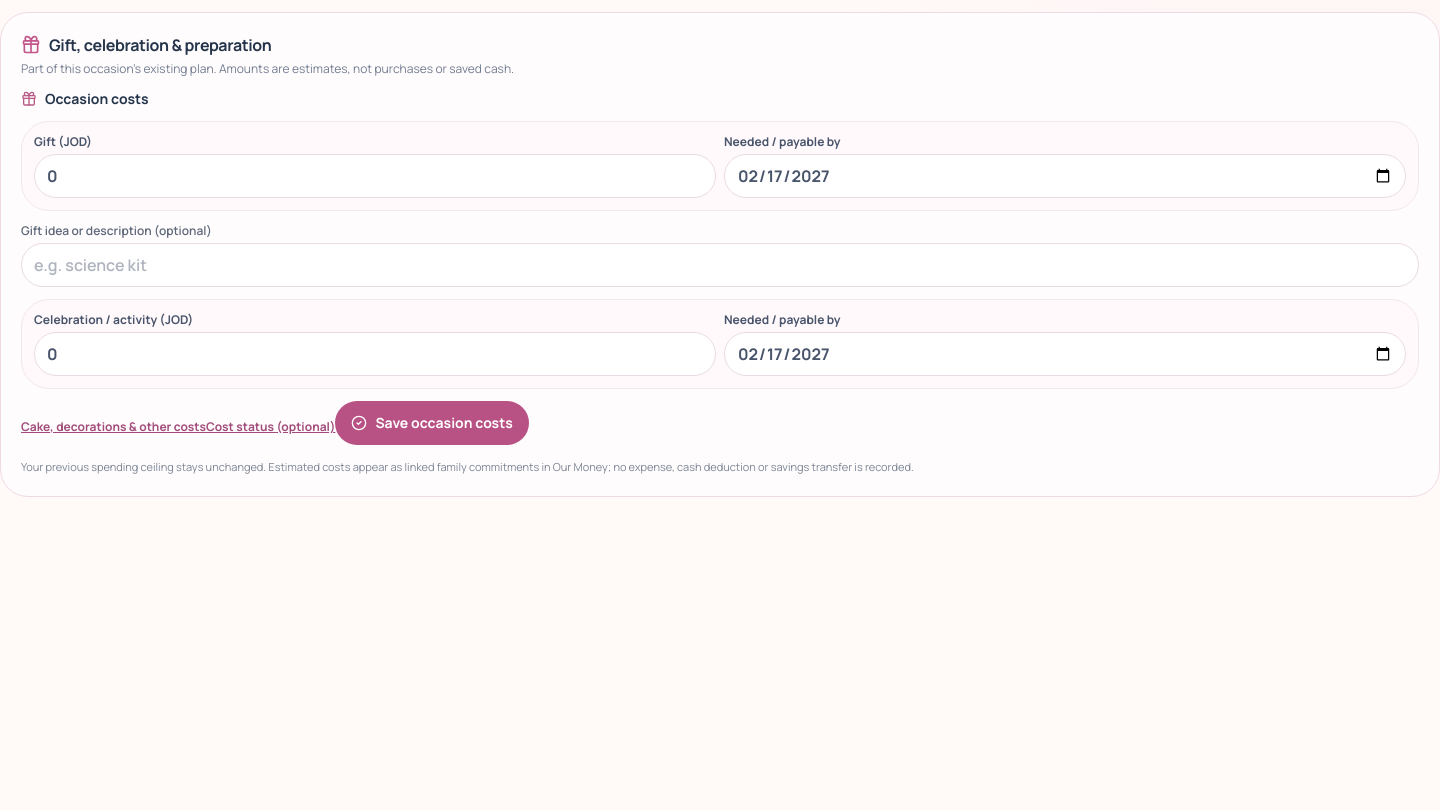
it: calendar-integrated occasion preparation › preserves the real budget and plan if browser persistence fails
Replace the text in the number field labelled "Gift (JOD)" with "300" at (375, 176), box [34,154,716,198]
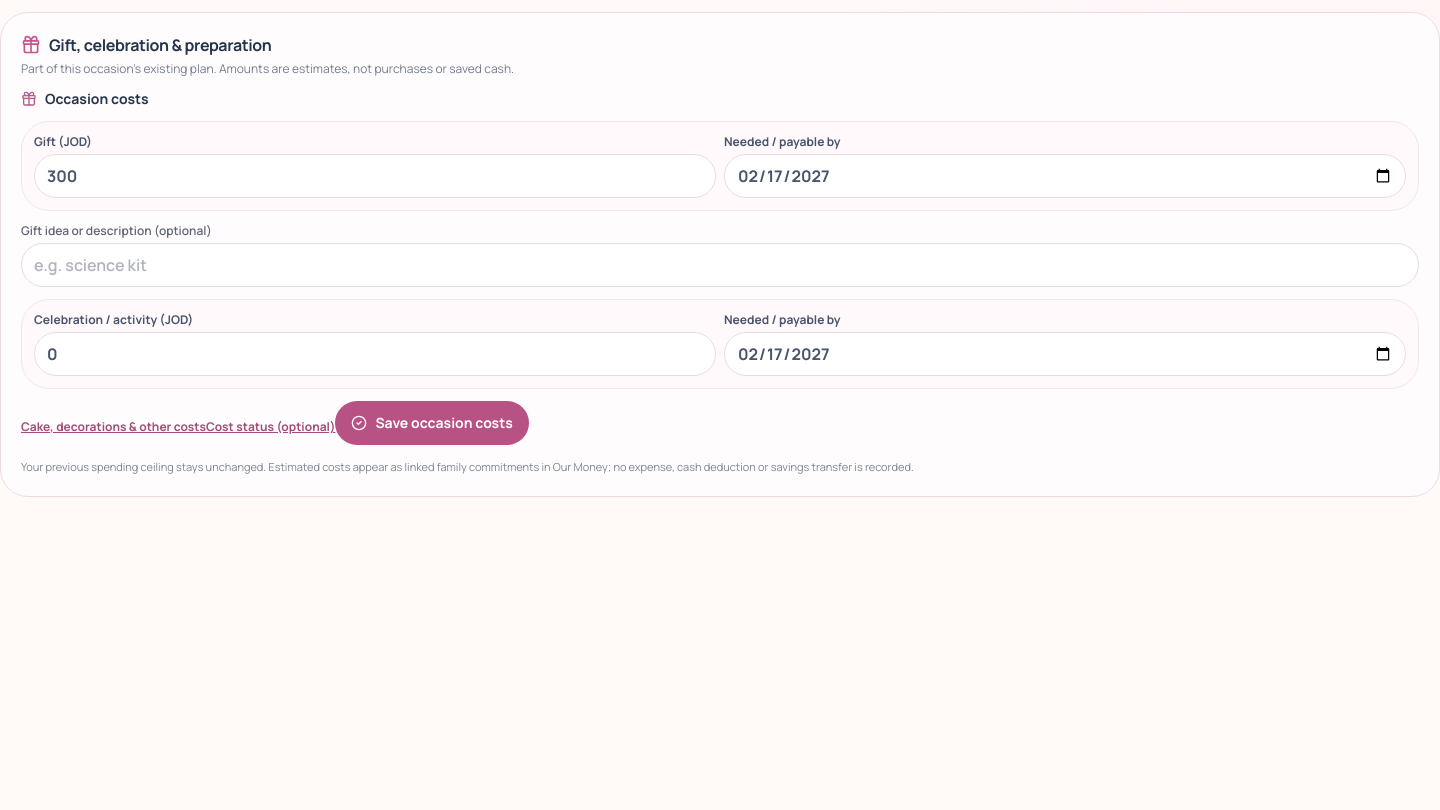
Click the button "Save occasion costs".
click(432, 423)  # box [335,401,529,445]
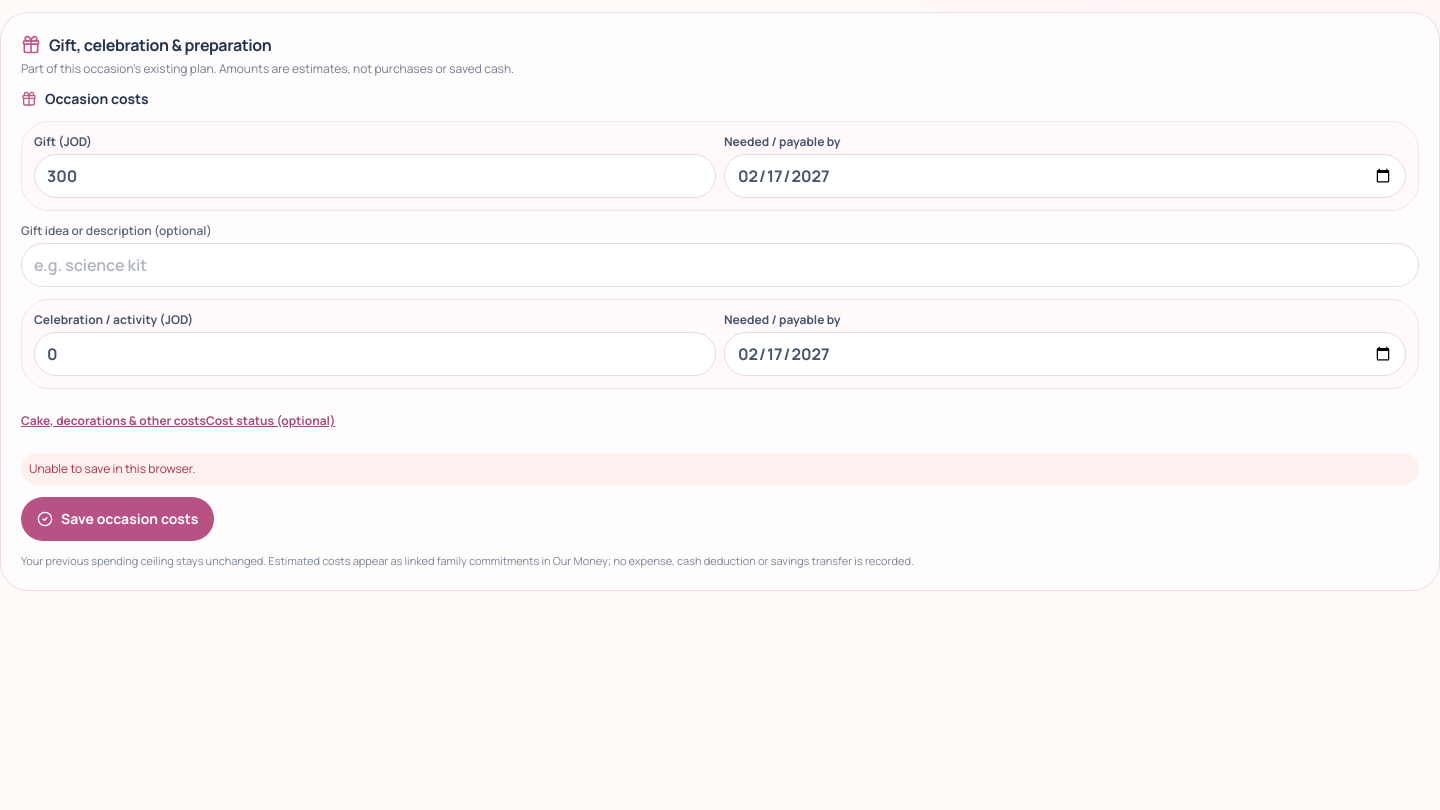
Check: the message reads "Unable to save in this browser.", box [29,460,195,477]
